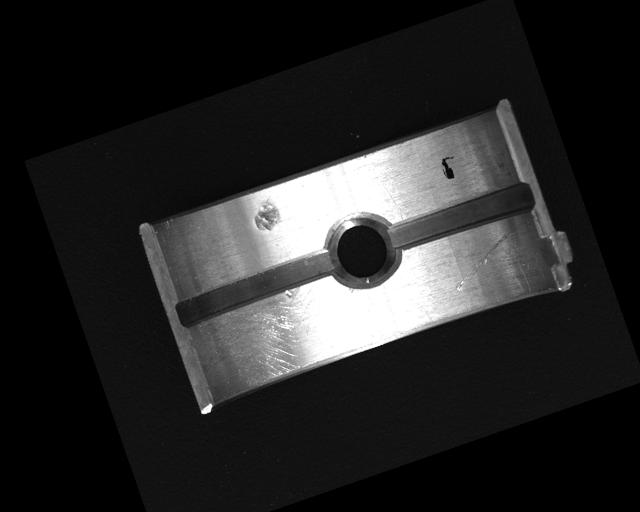blot: (437, 154, 461, 182)
bruise: (247, 194, 284, 235)
gap: (170, 244, 342, 331), (386, 177, 536, 255)
hole: (319, 203, 410, 296)
nick: (442, 228, 527, 293)
scratch: (193, 272, 365, 402)
